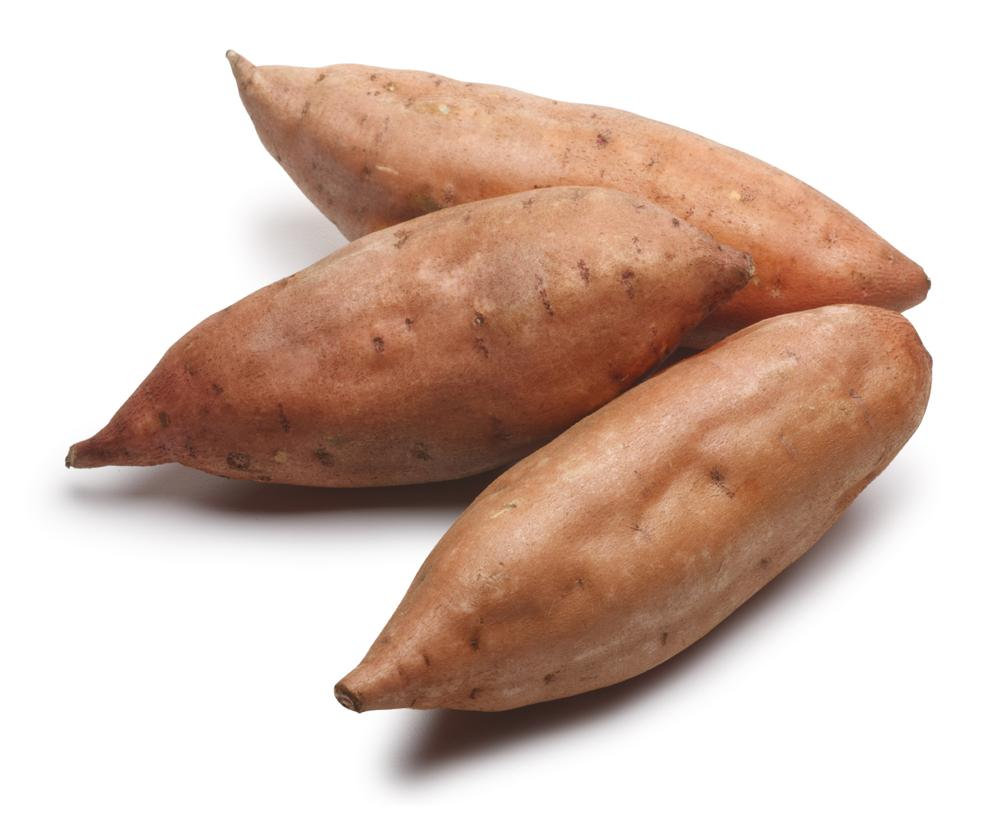sweetpotato: (332, 301, 932, 715), (224, 46, 932, 347), (63, 182, 756, 489)
